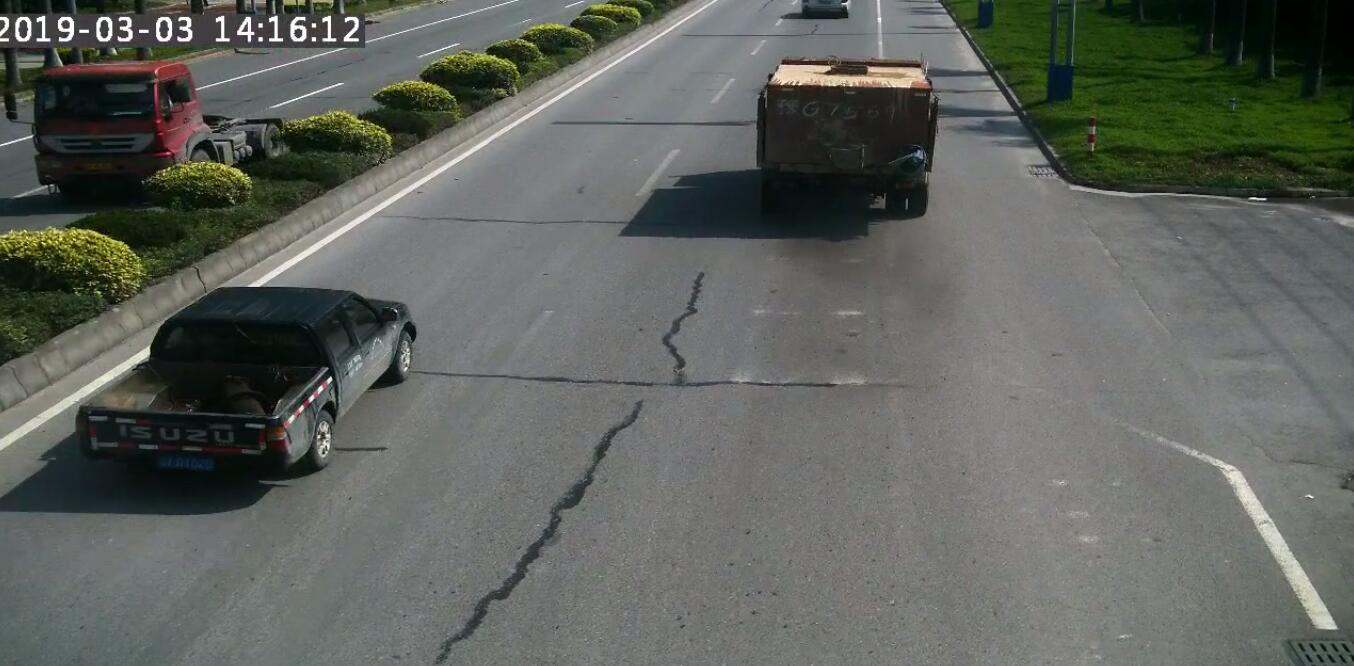yanwu: (804, 167, 965, 290)
